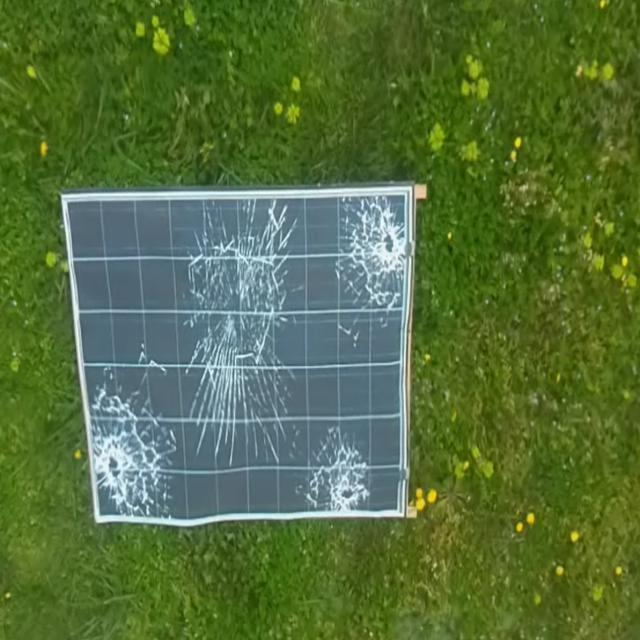cracked: (82, 187, 417, 526)
